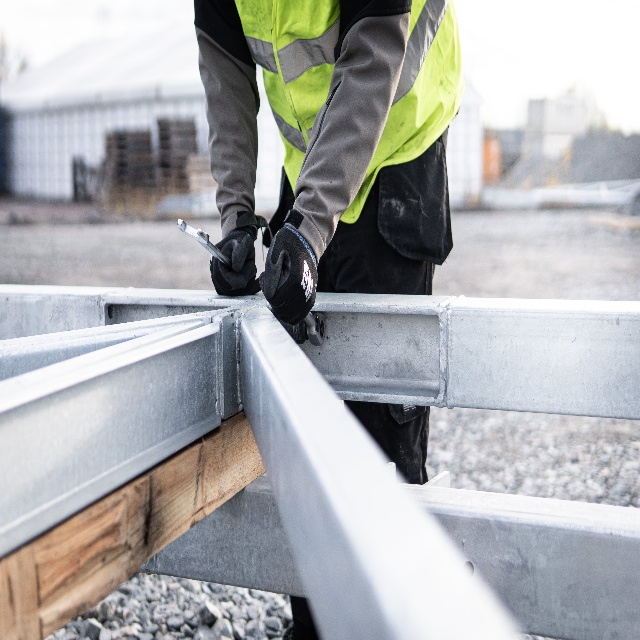Guantes: (258, 223, 319, 326), (209, 227, 263, 299)
